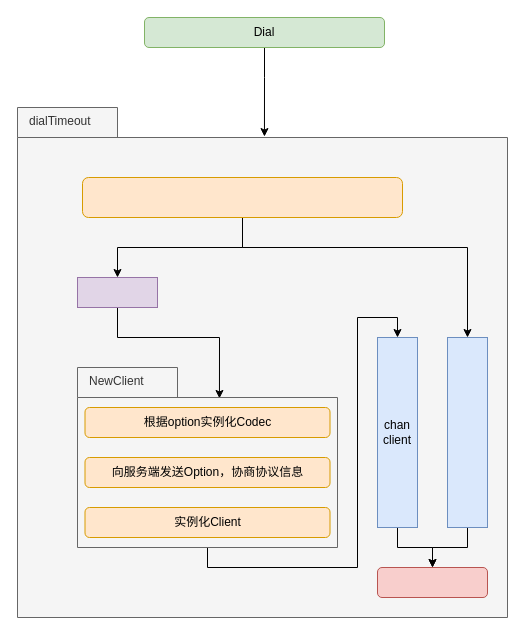
This 525x635 diagram has some shape labels left out. Each missing label, with the centre of its shape:
conn: [117,292]
net.DialTimeout(network, address, opt.ConnectTimeout): [242,197]
timeout: [467,432]
超时 / 返回client: [432,582]
